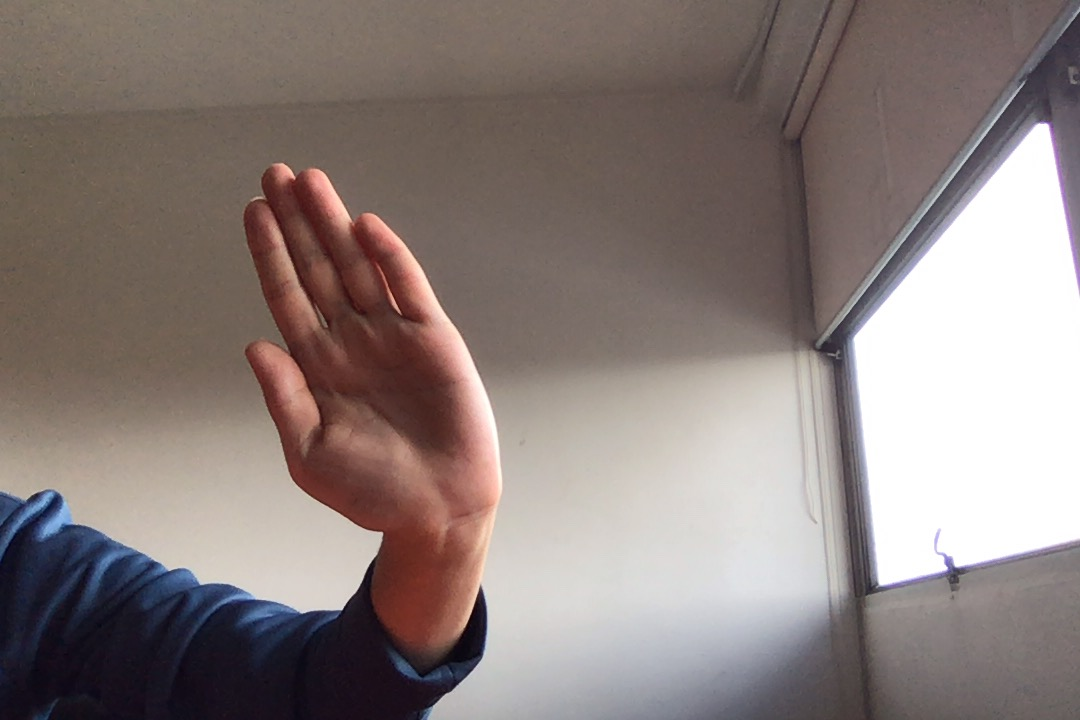palmhand: (236, 155, 513, 533)
